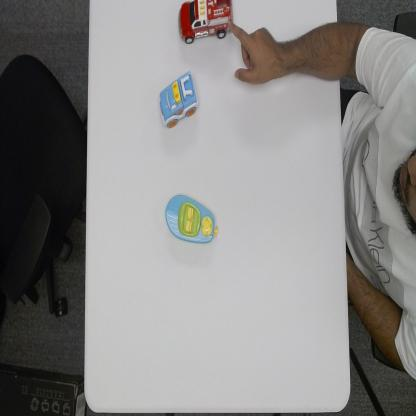Arm: (275, 20, 336, 83)
Boat: (164, 191, 220, 246)
Car: (158, 66, 198, 130)
Firetruck: (175, 0, 235, 44)
Hand: (228, 15, 275, 90)
